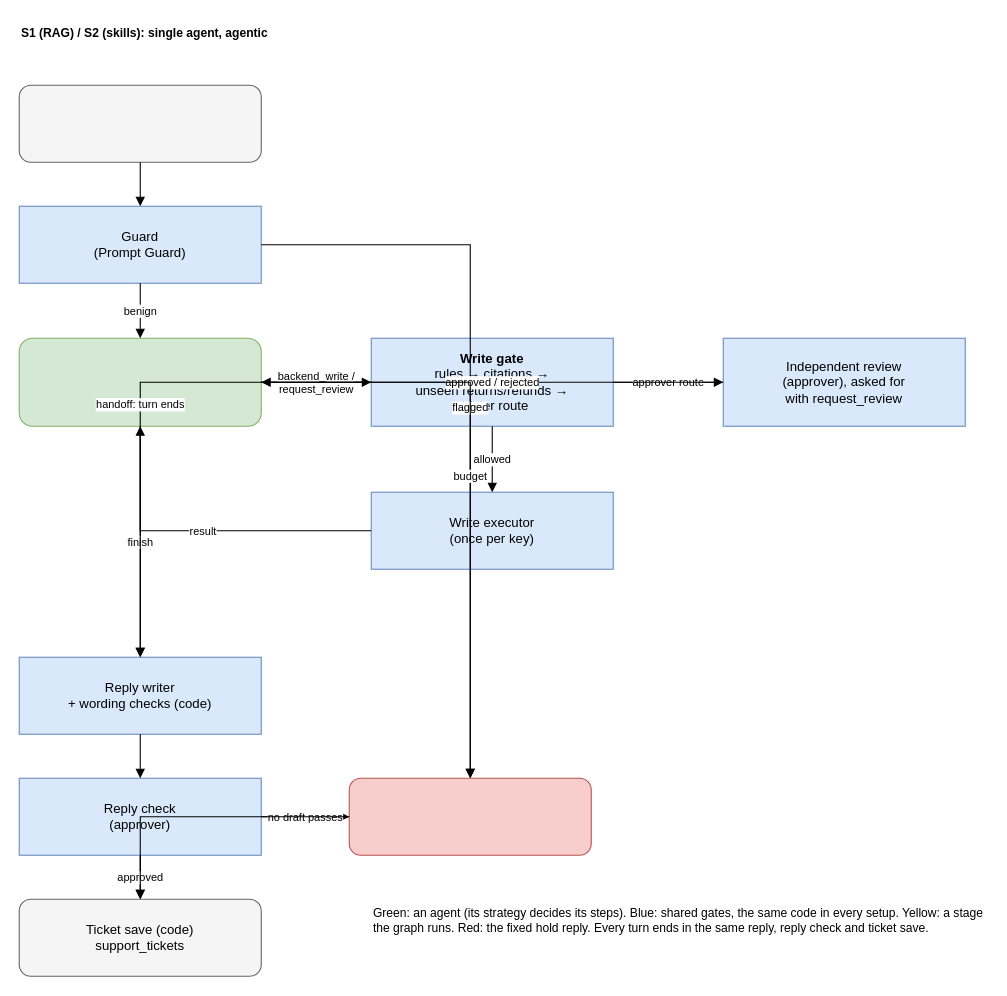
The diagram is 1007 pixels wide and 996 high, and some of its shapes have lost their labels. Here are the shapes that lost their labels. From the top down, the box of each, then its label:
(18, 84, 261, 162): Customer message + history
(18, 337, 261, 426): Agent react | plan_execute reads, policy, backend_write, request_review, finish
(348, 777, 591, 855): Hold reply + handoff packet
